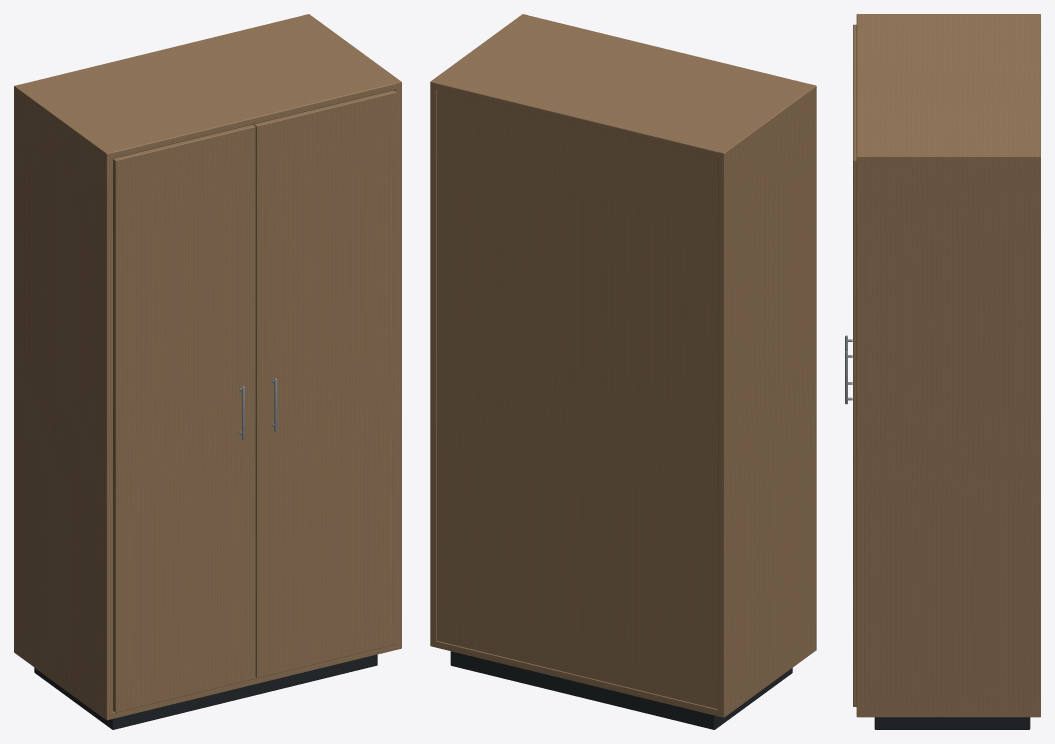
Rendered from original-wardrobe.glb.
3 renders of one model, left to right at view 1: azimuth 30°, elevation 25°; view 2: azimuth 150°, elevation 25°; view 3: azimuth 270°, elevation 25°, orthographic.
Visible parts, largest first — view 1: Door panel, Door panel.001, Cabinet side panel, Solid cabinet top, Cabinet side panel.001, Recessed cabinet plinth, Cabinet base; view 2: Recessed back panel, Cabinet side panel, Solid cabinet top, Recessed cabinet plinth, Cabinet side panel.001, Cabinet base; view 3: Cabinet side panel.001, Solid cabinet top, Door panel.001, Recessed cabinet plinth, Cabinet side panel.
Part boxes in pixels (<box>): Door panel: <box>113,124,255,712</box>; Door panel.001: <box>253,90,396,678</box>; Cabinet side panel: <box>14,84,112,720</box>; Solid cabinet top: <box>14,15,401,158</box>; Cabinet side panel.001: <box>304,14,401,649</box>; Recessed cabinet plinth: <box>34,654,377,729</box>; Cabinet base: <box>14,643,401,719</box>; Recessed back panel: <box>437,89,717,709</box>; Cabinet side panel: <box>718,84,816,717</box>; Solid cabinet top: <box>431,15,816,158</box>; Recessed cabinet plinth: <box>450,651,792,729</box>; Cabinet side panel.001: <box>430,14,527,647</box>; Cabinet base: <box>430,640,814,717</box>; Cabinet side panel.001: <box>856,153,1040,717</box>; Solid cabinet top: <box>856,16,1040,162</box>; Door panel.001: <box>853,92,856,706</box>; Recessed cabinet plinth: <box>874,717,1030,729</box>; Cabinet side panel: <box>856,14,1040,16</box>.
Bounding box in the file's own units: 1 × 1.9 × 0.58.
Materials: 3 (1 with a texture image).
